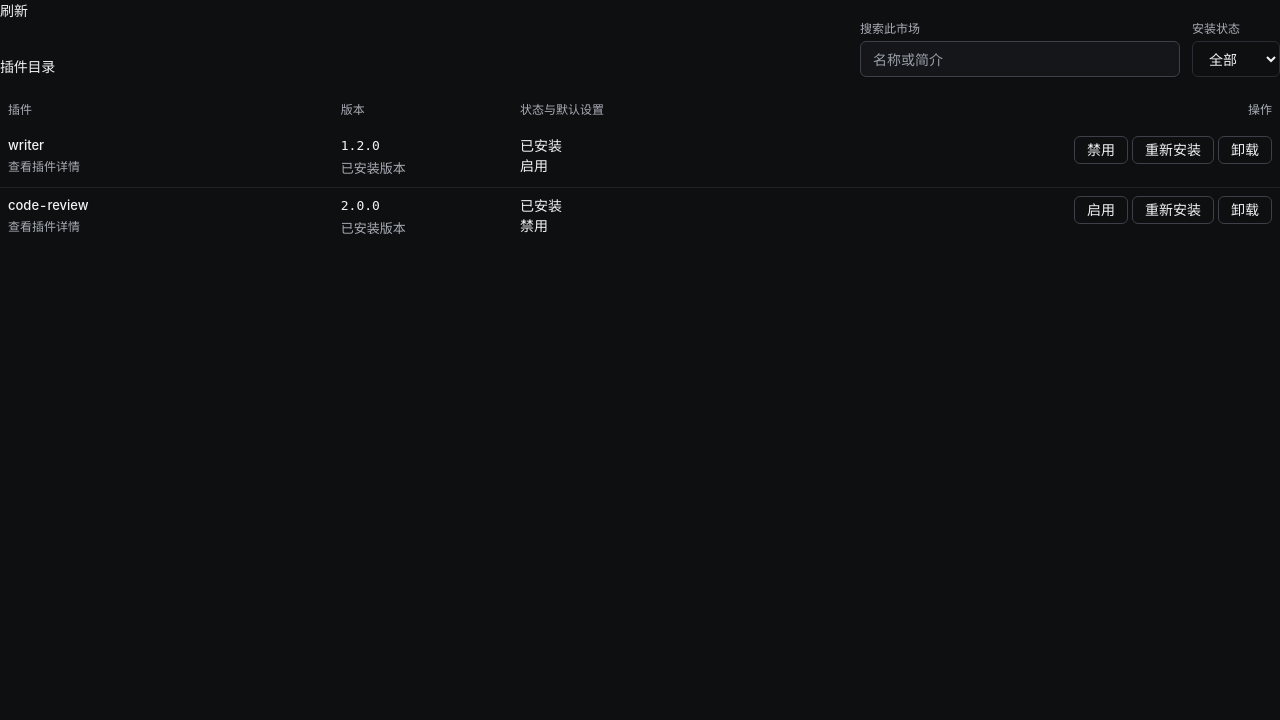
Test: Codex plugin management › reports a saved configuration separately from a refresh failure without optimistic state
Step 1. Click the button with aria-label "禁用 writer（personal）" → (1101, 150), box [1074,136,1128,164]
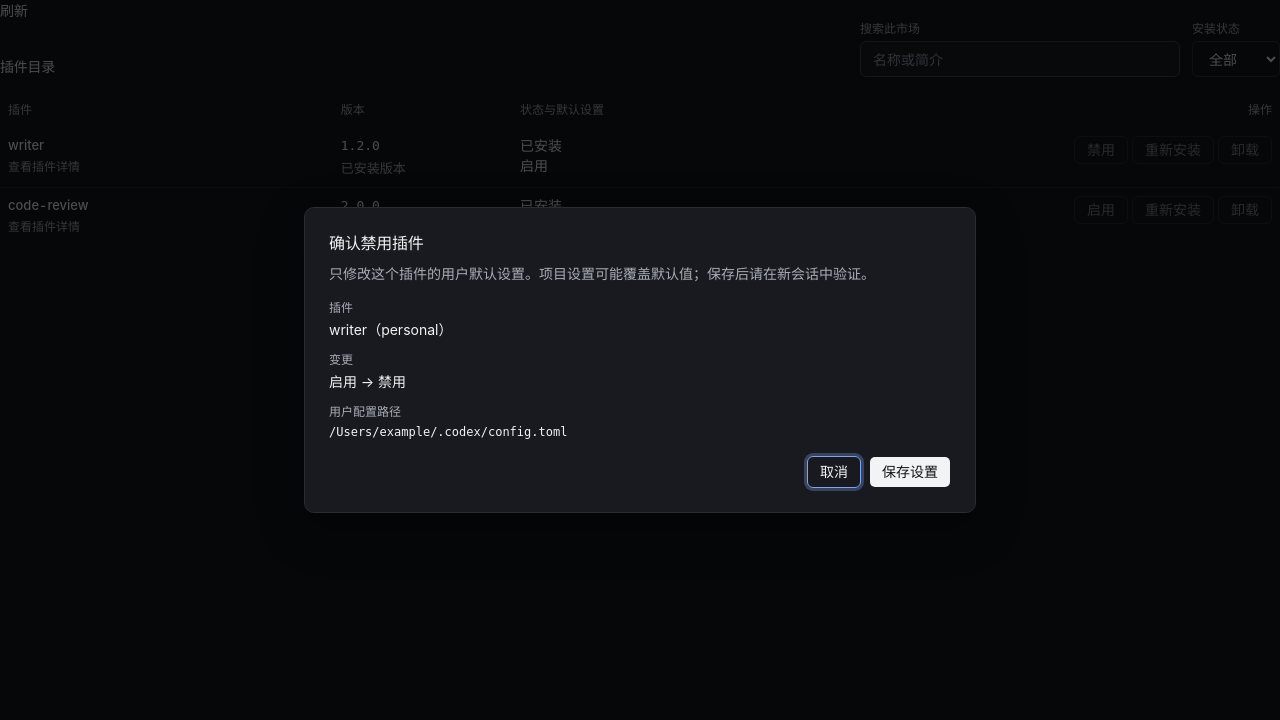
Step 2. Click the button "保存设置" → (910, 472), box [869,456,951,488]
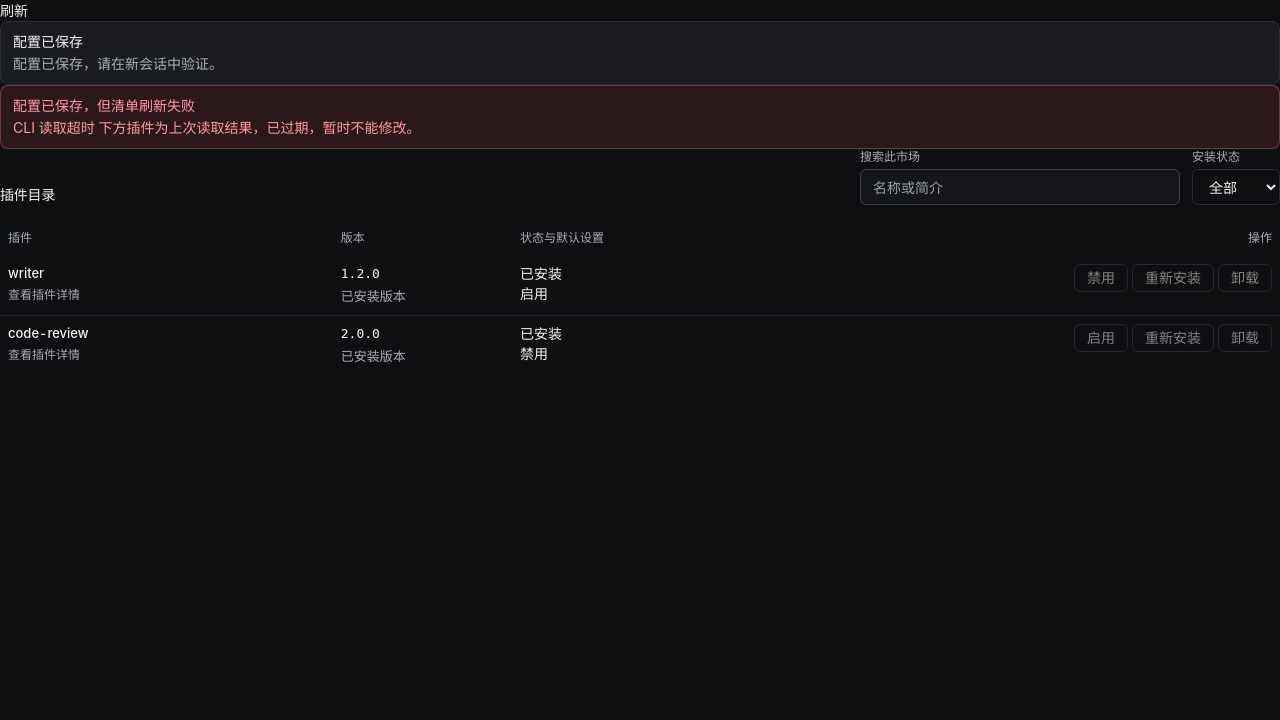
expect the button with aria-label "禁用 writer（personal）" is disabled: met, box [1074,264,1128,292]
expect the text "配置已保存，但清单刷新失败" is shown: met, box [13,97,195,114]
expect the dialog is gone: met
